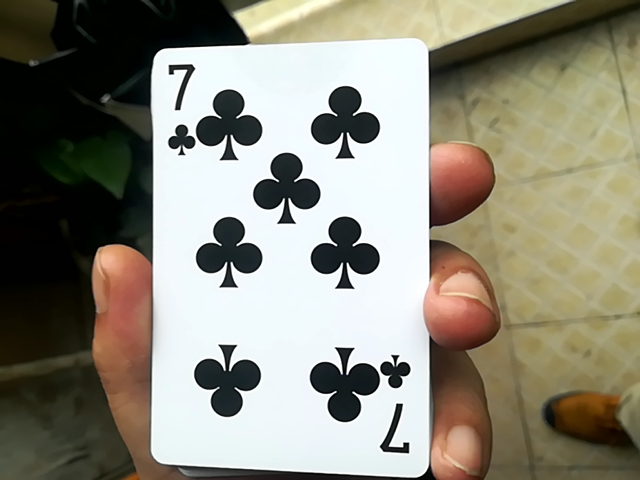mh 7: (133, 38, 444, 480)
